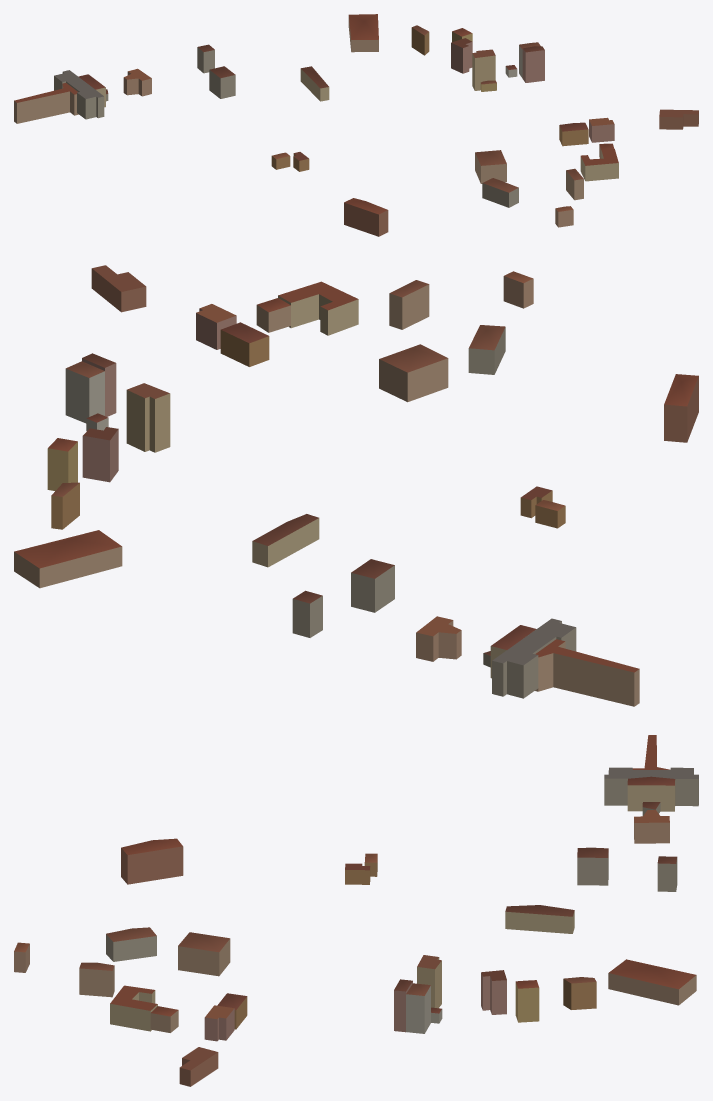
File: SM_Fondale_Citta_Colle_07.fbx
3 renders of one model, top to bottom at view 1: azimuth 30°, elevation 25°; view 2: azimuth 150°, elevation 25°; view 3: azimuth 270°, elevation 25°, orthographic. The views are drawn at different scales.
Visible parts, largest first — view 1: SM_Fondale_Citta_Colle_07; view 2: SM_Fondale_Citta_Colle_07; view 3: SM_Fondale_Citta_Colle_07.
Part boxes in pixels (x1=…): SM_Fondale_Citta_Colle_07: x1=14, y1=14, x2=698, y2=236; SM_Fondale_Citta_Colle_07: x1=14, y1=265, x2=698, y2=706; SM_Fondale_Citta_Colle_07: x1=14, y1=735, x2=698, y2=1086.
Size of the model in its own units: 38270 by 33684 by 3490.
